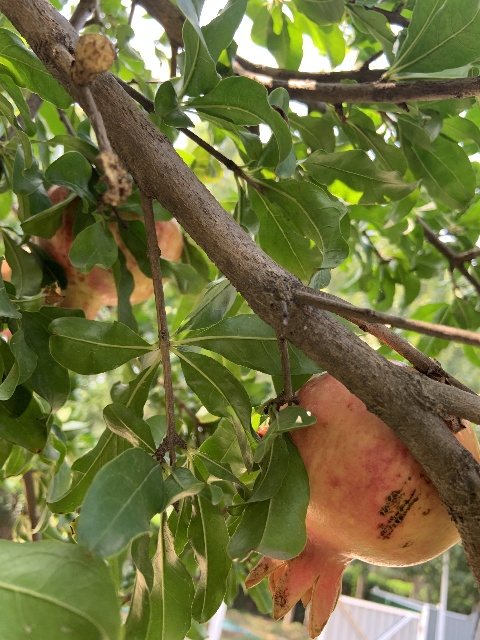ripe: (245, 360, 480, 638), (29, 184, 183, 320)
